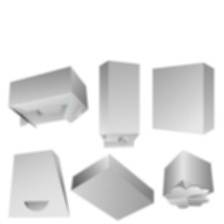book: (66, 149, 158, 223), (4, 63, 92, 132), (148, 57, 220, 139), (4, 146, 75, 224), (95, 56, 146, 153), (159, 146, 217, 213)
